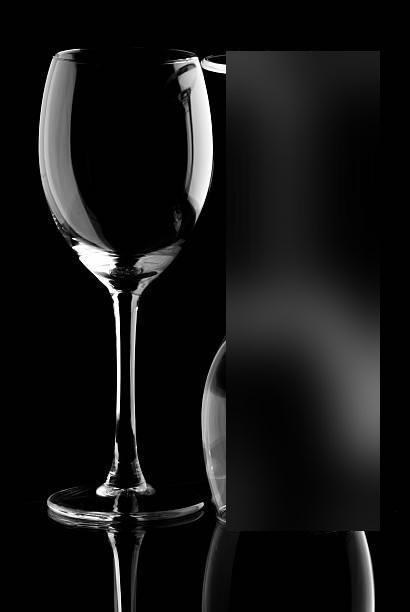glass-wine: (36, 42, 216, 529)
